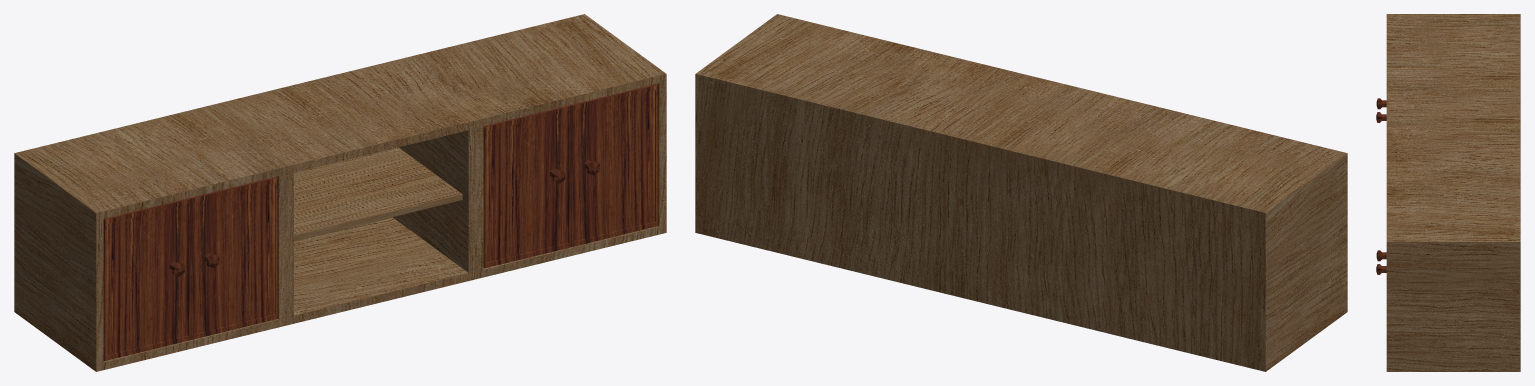
The model's file is tb_table.fbx.
The picture shows the model from 3 angles, left to right: view 1: azimuth 30°, elevation 25°; view 2: azimuth 150°, elevation 25°; view 3: azimuth 270°, elevation 25°; orthographic projection. The views are drawn at different scales.
Parts seen in each view (by area): view 1: Cube.001, Cube.004, Cube.002, Cube.003, Cube.005; view 2: Cube.001; view 3: Cube.001.
Part boxes in pixels (<box>): Cube.001: <box>14,14,666,371</box>; Cube.004: <box>483,105,571,268</box>; Cube.002: <box>103,198,191,361</box>; Cube.003: <box>190,176,278,339</box>; Cube.005: <box>570,84,658,246</box>; Cube.001: <box>695,14,1347,371</box>; Cube.001: <box>1386,14,1520,371</box>.
Bounding box in the file's own units: 169 × 45 × 45.34.
2 materials, 2 textured.
